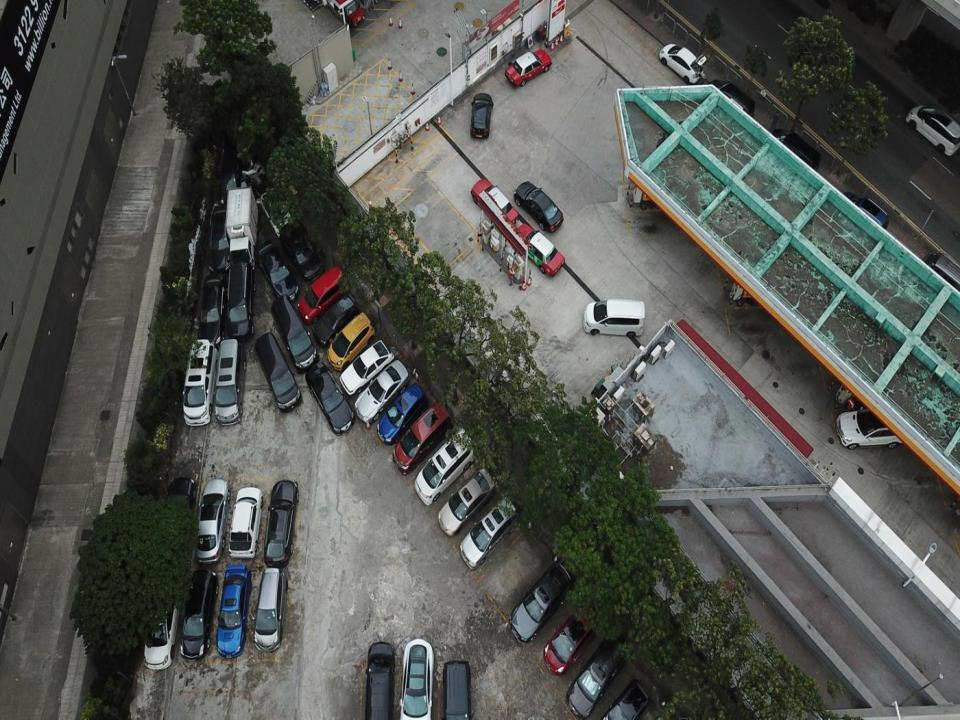car: (509, 556, 579, 647), (540, 598, 610, 676), (412, 425, 476, 508), (565, 632, 626, 716), (433, 462, 494, 540), (389, 403, 450, 475), (457, 496, 517, 569), (174, 566, 220, 660), (140, 566, 178, 671), (254, 331, 302, 413), (354, 358, 409, 426), (304, 364, 352, 439), (906, 100, 960, 166), (262, 477, 300, 570), (269, 295, 315, 371), (215, 564, 252, 658), (376, 381, 426, 448), (396, 638, 437, 719), (836, 406, 910, 450), (161, 474, 196, 566), (327, 306, 377, 370), (254, 566, 288, 657), (210, 340, 245, 428), (194, 478, 229, 565), (222, 255, 257, 341), (182, 336, 214, 430), (338, 340, 389, 397), (514, 178, 565, 234), (297, 265, 343, 327), (309, 290, 355, 351), (582, 298, 647, 341), (470, 171, 517, 230), (363, 641, 398, 719), (771, 124, 821, 178), (227, 484, 260, 559), (515, 221, 560, 276), (280, 226, 326, 279), (841, 188, 891, 236), (261, 238, 296, 302), (440, 658, 474, 719), (707, 80, 754, 124), (656, 43, 707, 83), (603, 677, 651, 719), (195, 270, 224, 338), (503, 50, 553, 89), (257, 191, 300, 235), (469, 90, 496, 142)
truck: (222, 186, 256, 266), (921, 241, 960, 291)
